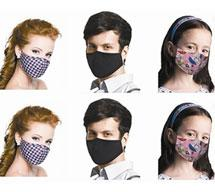OK: (18, 39, 56, 77), (86, 127, 123, 164), (85, 40, 122, 77), (20, 130, 56, 166), (178, 126, 213, 161), (179, 39, 214, 74)
